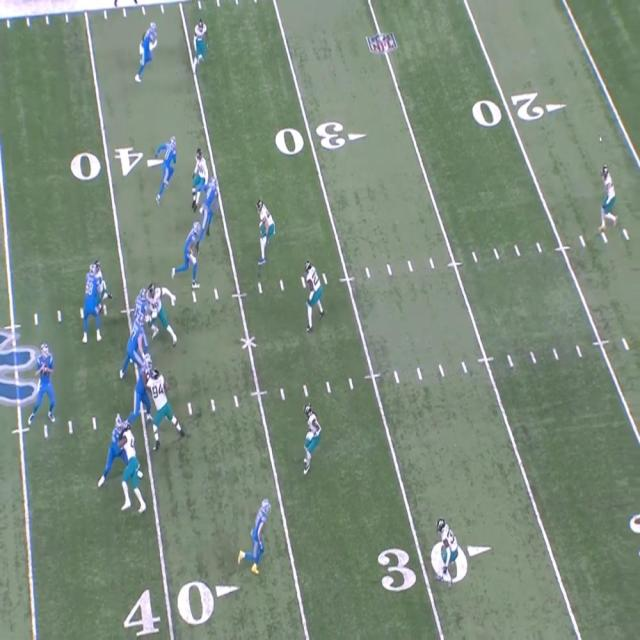center: (126, 311, 146, 373)
db: (438, 518, 463, 584), (302, 404, 319, 469), (599, 164, 615, 226), (195, 20, 211, 66)
lb: (304, 263, 324, 318), (256, 201, 273, 262)
qb: (34, 348, 56, 422)
skill: (250, 495, 272, 572), (158, 138, 176, 200), (181, 223, 200, 281), (202, 177, 218, 241), (141, 21, 159, 76)
